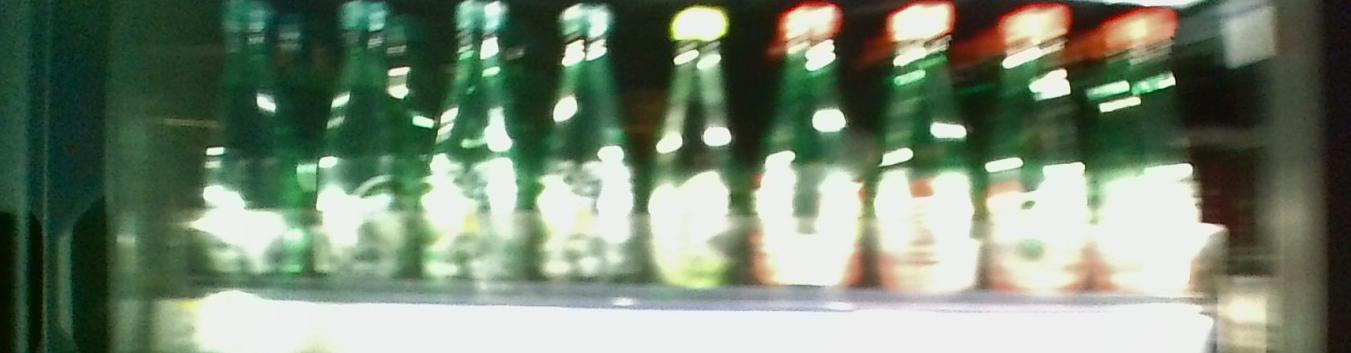bottle: (190, 5, 302, 290), (755, 15, 868, 296), (422, 2, 528, 298), (1100, 11, 1206, 294), (988, 7, 1091, 297), (309, 7, 411, 297), (535, 5, 637, 294), (648, 8, 747, 298), (880, 5, 980, 291)
